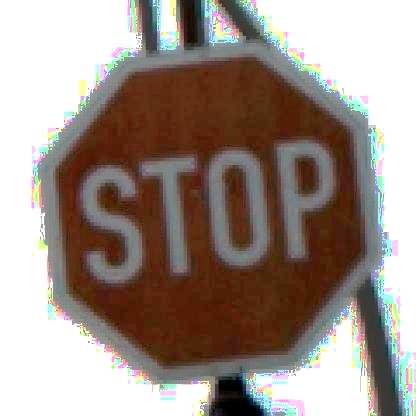Stop Sign: (40, 38, 378, 385)
